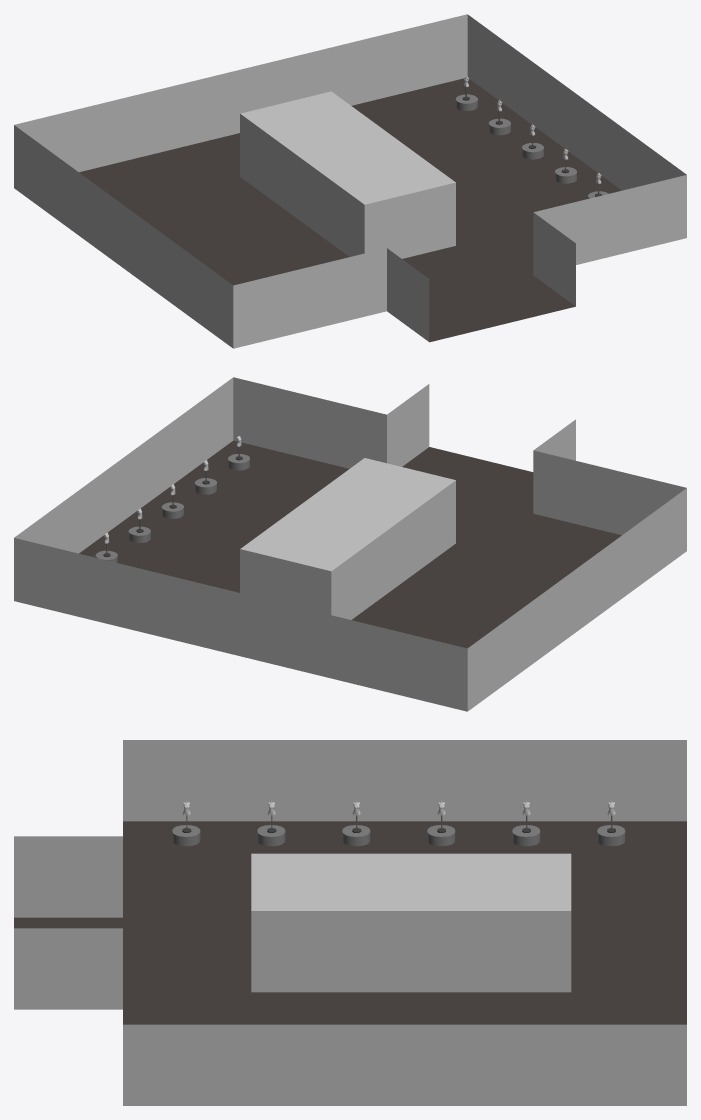
File: Basic Boutique MK1.glb
3 renders of one model, top to bottom at view 1: azimuth 30°, elevation 25°; view 2: azimuth 150°, elevation 25°; view 3: azimuth 270°, elevation 25°, orthographic. The views are drawn at different scales.
Visible parts, largest first — view 1: Plane; view 2: Plane; view 3: Plane.
Part boxes in pixels (left/top/right/bottom): Plane: left=14, top=14, right=686, bottom=348; Plane: left=14, top=377, right=686, bottom=711; Plane: left=14, top=740, right=686, bottom=1105.
Bounding box in the file's own units: 30 × 4.45 × 30.
Materials: 1 (1 with a texture image).
